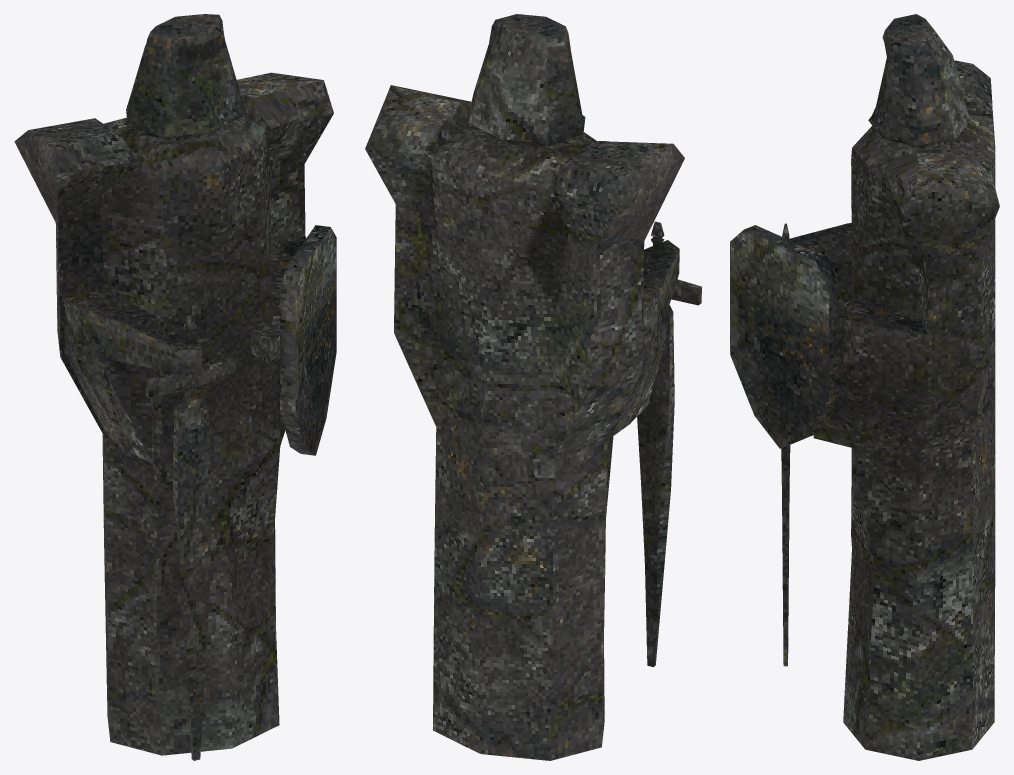
Rendered from Guardian_1.gltf.
3 views of the same model, side by side, from view 1: azimuth 30°, elevation 25°; view 2: azimuth 150°, elevation 25°; view 3: azimuth 270°, elevation 25° (orthographic).
Visible parts, largest first — view 1: Guardian_1; view 2: Guardian_1; view 3: Guardian_1.
Boxes of the visible parts, x1,y1,x2,y2 form: Guardian_1: (14, 14, 336, 760); Guardian_1: (365, 14, 701, 760); Guardian_1: (730, 14, 999, 760).
Size of the model in its own units: 3.15 by 7.43 by 2.64.
1 material, 1 textured.
